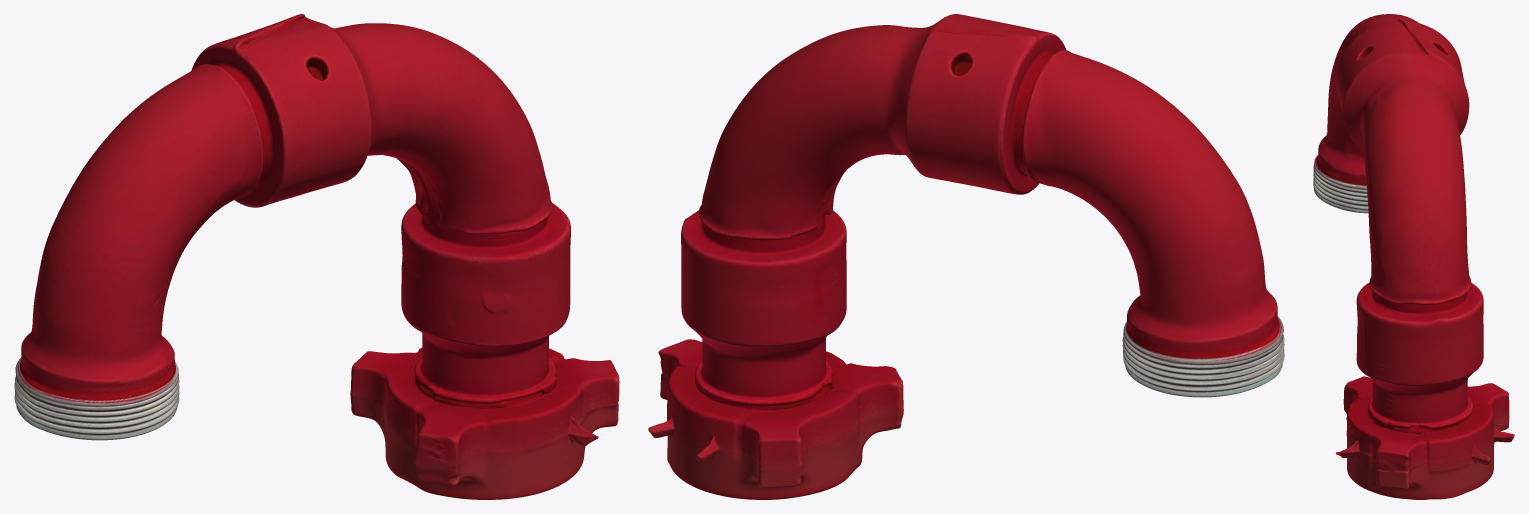
The model's file is juntasGiratorias.glb.
The picture shows the model from 3 angles, left to right: view 1: azimuth 30°, elevation 25°; view 2: azimuth 150°, elevation 25°; view 3: azimuth 270°, elevation 25°; orthographic projection. The views are drawn at different scales.
Parts seen in each view (by area): view 1: tripo_node_36aa6377-84e2-4fe7-b3e4-dea560d4f92a; view 2: tripo_node_36aa6377-84e2-4fe7-b3e4-dea560d4f92a; view 3: tripo_node_36aa6377-84e2-4fe7-b3e4-dea560d4f92a.
Boxes of the visible parts, x1=… form: tripo_node_36aa6377-84e2-4fe7-b3e4-dea560d4f92a: x1=14, y1=14, x2=619, y2=499; tripo_node_36aa6377-84e2-4fe7-b3e4-dea560d4f92a: x1=648, y1=14, x2=1284, y2=499; tripo_node_36aa6377-84e2-4fe7-b3e4-dea560d4f92a: x1=1313, y1=14, x2=1514, y2=499.
Size of the model in its own units: 0.9819 by 0.7537 by 0.3838.
Materials: 1 (1 with a texture image).
